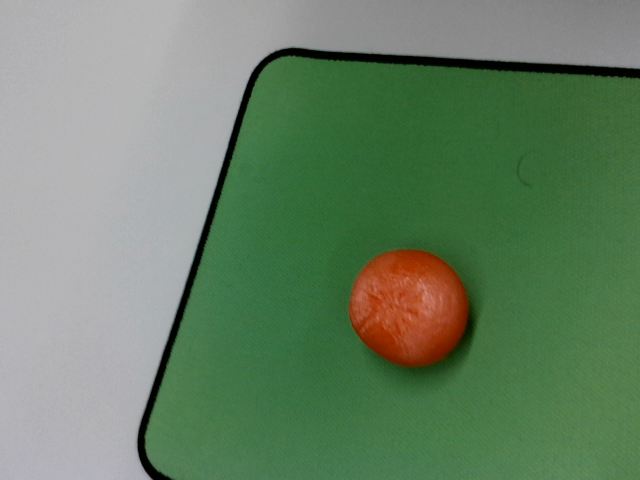orange: (327, 225, 492, 388)
